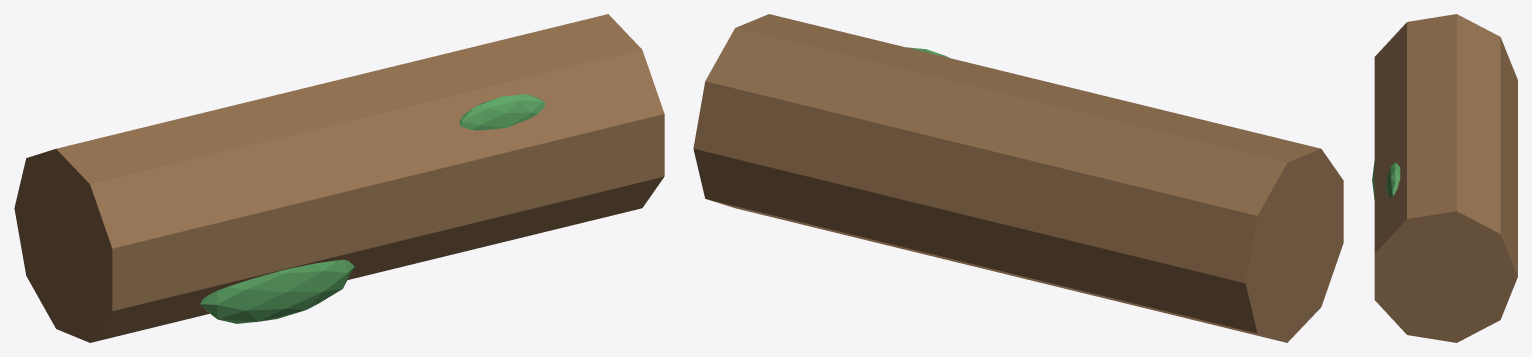
The model's file is forest_mossy_log.glb.
The picture shows the model from 3 angles, left to right: view 1: azimuth 30°, elevation 25°; view 2: azimuth 150°, elevation 25°; view 3: azimuth 270°, elevation 25°; orthographic projection. The views are drawn at different scales.
Parts seen in each view (by area): view 1: log, moss_patch_a, moss_patch_b; view 2: log; view 3: log, moss_patch_b.
Boxes of the visible parts, left/top/right/bottom form: log: left=14, top=14, right=664, bottom=342; moss_patch_a: left=200, top=259, right=354, bottom=323; moss_patch_b: left=459, top=94, right=545, bottom=130; log: left=693, top=14, right=1343, bottom=342; log: left=1374, top=14, right=1517, bottom=342; moss_patch_b: left=1386, top=162, right=1400, bottom=196.
Size of the model in its own units: 2.4 by 0.7485 by 0.75.
